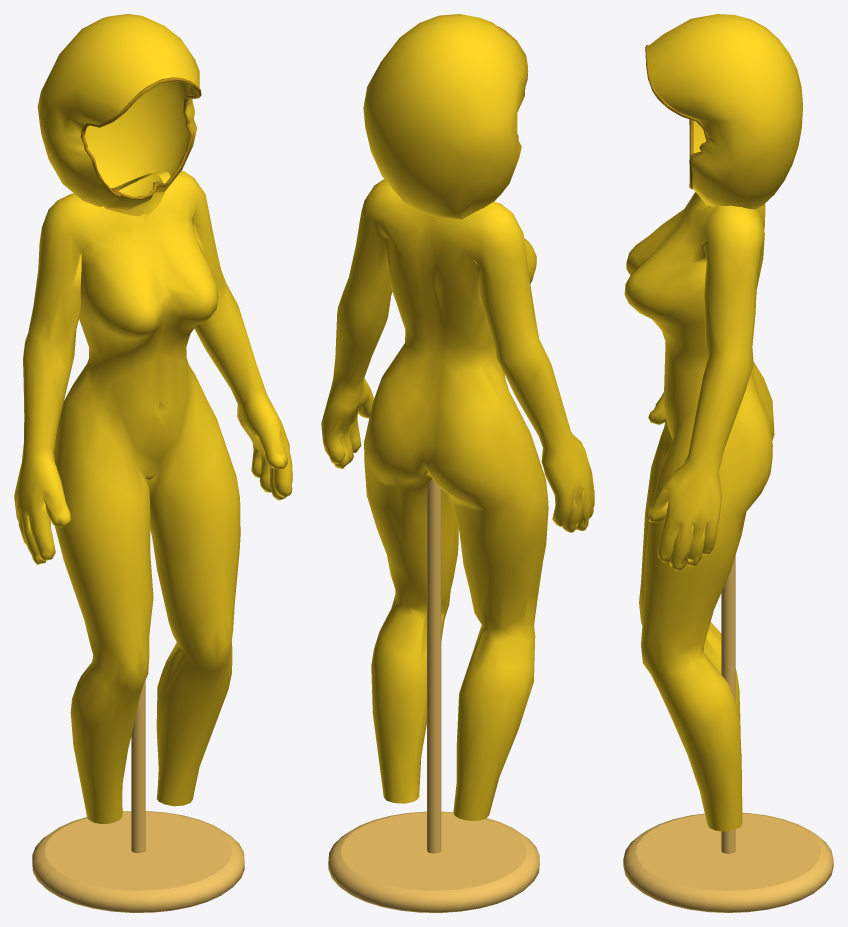
Rendered from rain.suit.hazmat-yellow.glb.
The picture shows the model from 3 angles, left to right: view 1: azimuth 30°, elevation 25°; view 2: azimuth 150°, elevation 25°; view 3: azimuth 270°, elevation 25°; orthographic projection.
Visible parts, largest first — view 1: Foundation.Hazmat.Complete, Foundation.Hazmat.FittedHood, stand_base, stand_stem, Foundation.Hazmat.FaceBinding; view 2: Foundation.Hazmat.Complete, Foundation.Hazmat.FittedHood, stand_base, stand_stem; view 3: Foundation.Hazmat.Complete, Foundation.Hazmat.FittedHood, stand_base, stand_stem, Foundation.Hazmat.FaceBinding.
Boxes of the visible parts, left/top/right/bottom form: Foundation.Hazmat.Complete: left=14, top=171, right=292, bottom=823; Foundation.Hazmat.FittedHood: left=37, top=14, right=199, bottom=209; stand_base: left=32, top=811, right=244, bottom=912; stand_stem: left=131, top=680, right=145, bottom=853; Foundation.Hazmat.FaceBinding: left=80, top=77, right=201, bottom=200; Foundation.Hazmat.Complete: left=321, top=179, right=594, bottom=820; Foundation.Hazmat.FittedHood: left=363, top=14, right=526, bottom=219; stand_base: left=328, top=811, right=539, bottom=912; stand_stem: left=427, top=479, right=441, bottom=853; Foundation.Hazmat.Complete: left=624, top=192, right=774, bottom=831; Foundation.Hazmat.FittedHood: left=648, top=14, right=802, bottom=209; stand_base: left=623, top=812, right=833, bottom=912; stand_stem: left=721, top=555, right=735, bottom=853; Foundation.Hazmat.FaceBinding: left=645, top=45, right=708, bottom=189.
Bounding box in the file's own units: 0.2399 × 0.7495 × 0.1688.
